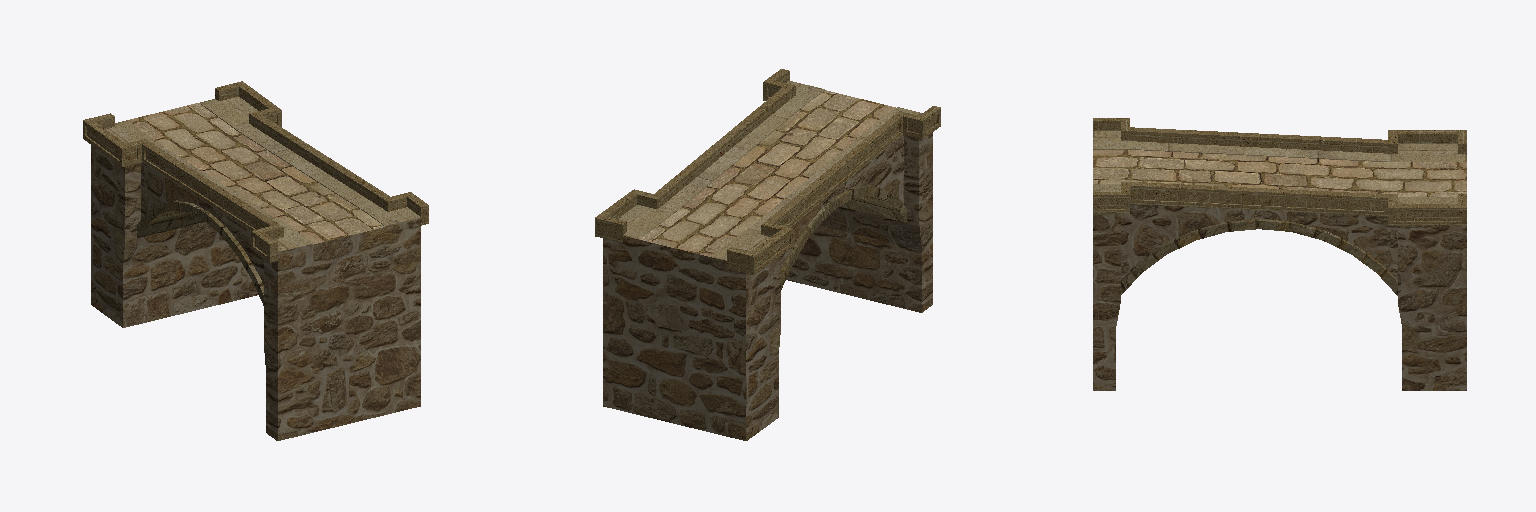
3 views of the same model, side by side, from view 1: azimuth 30°, elevation 25°; view 2: azimuth 150°, elevation 25°; view 3: azimuth 270°, elevation 25° (orthographic).
Visible parts, largest first — view 1: Default; view 2: Default; view 3: Default.
Boxes of the visible parts, x1=… form: Default: x1=83, y1=81, x2=428, y2=440; Default: x1=595, y1=69, x2=940, y2=440; Default: x1=1093, y1=118, x2=1466, y2=390.
Size of the model in its own units: 20 by 23.8 by 40.5.
5 materials, 5 textured.